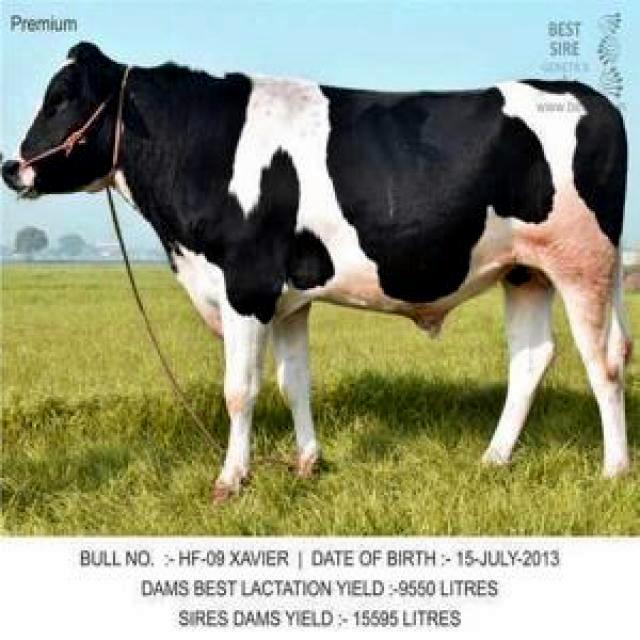COW: (4, 42, 629, 492)
